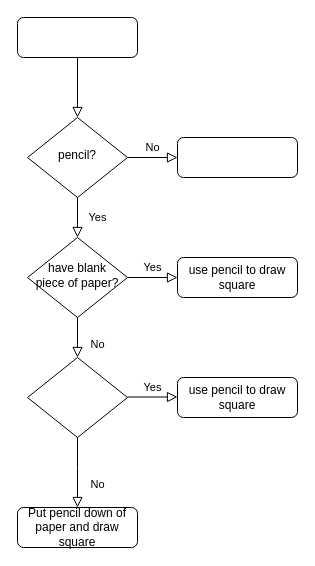
The diagram is 315 pixels wide and 566 high, and some of its shapes have lost their labels. Each missing label, with the centre of its shape:
Draw a square on a piece of paper: pixel 77 37
Get pencil: pixel 237 157
Pencil down on paper?: pixel 77 397
